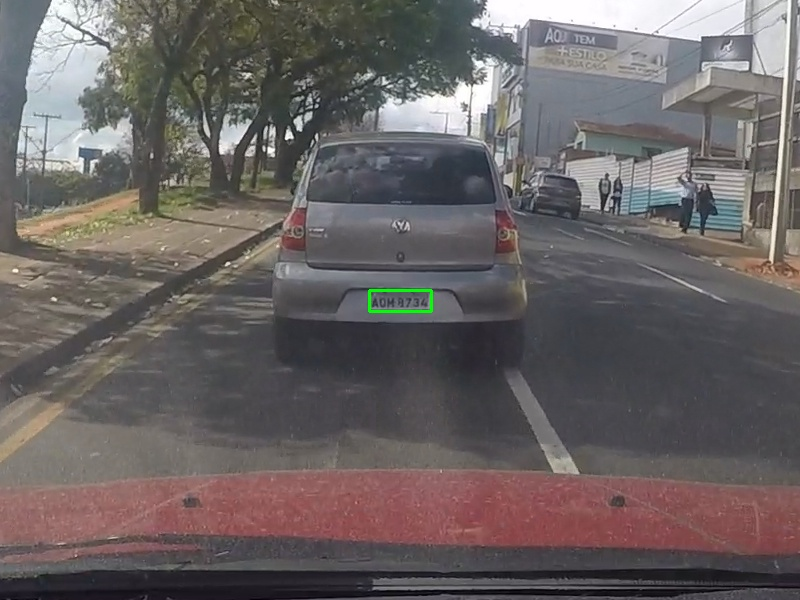placa: (369, 290, 431, 311)
